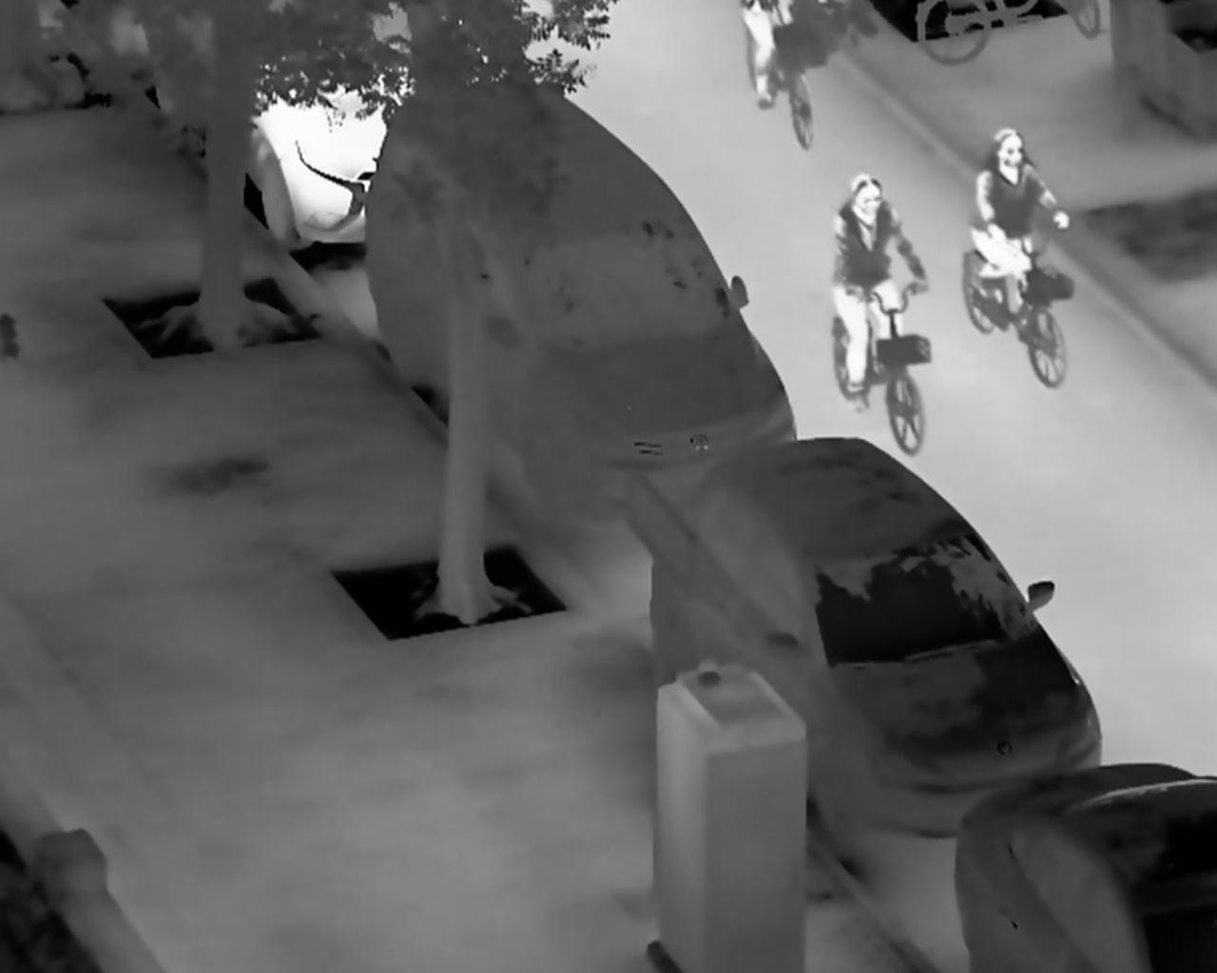person: (831, 172, 932, 415), (967, 125, 1072, 330)
